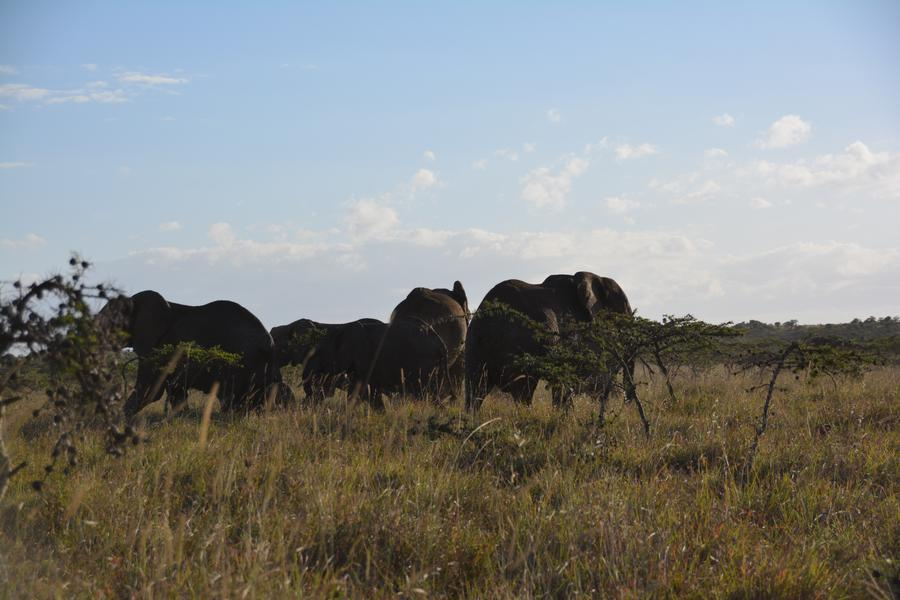elephant: (459, 276, 632, 414), (90, 293, 281, 400), (314, 316, 452, 407), (388, 279, 470, 369), (273, 315, 374, 375)
